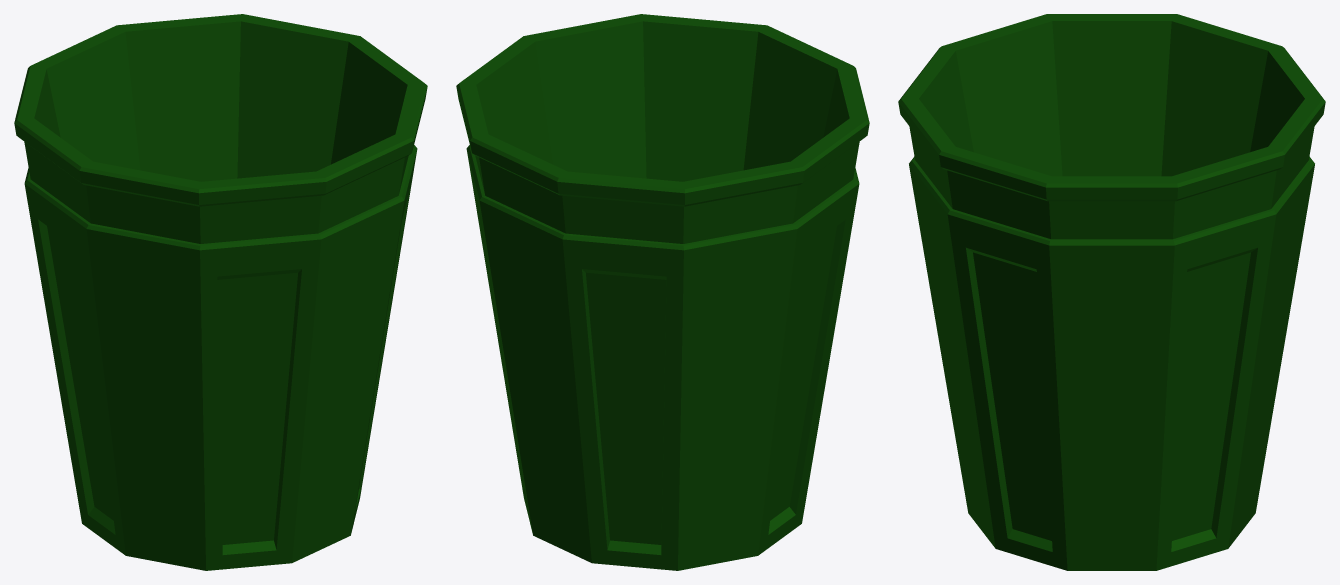
Rendered from Trash Can.glb.
3 views of the same model, side by side, from view 1: azimuth 30°, elevation 25°; view 2: azimuth 150°, elevation 25°; view 3: azimuth 270°, elevation 25° (orthographic).
Visible parts, largest first — view 1: TrashCan_01_Cylinder.008; view 2: TrashCan_01_Cylinder.008; view 3: TrashCan_01_Cylinder.008.
Part boxes in pixels (box(x1,y1,x2,y2)): TrashCan_01_Cylinder.008: box(14, 14, 427, 570); TrashCan_01_Cylinder.008: box(456, 14, 869, 570); TrashCan_01_Cylinder.008: box(898, 14, 1325, 570).
Bounding box in the file's own units: 3.03 × 3.41 × 3.19.
